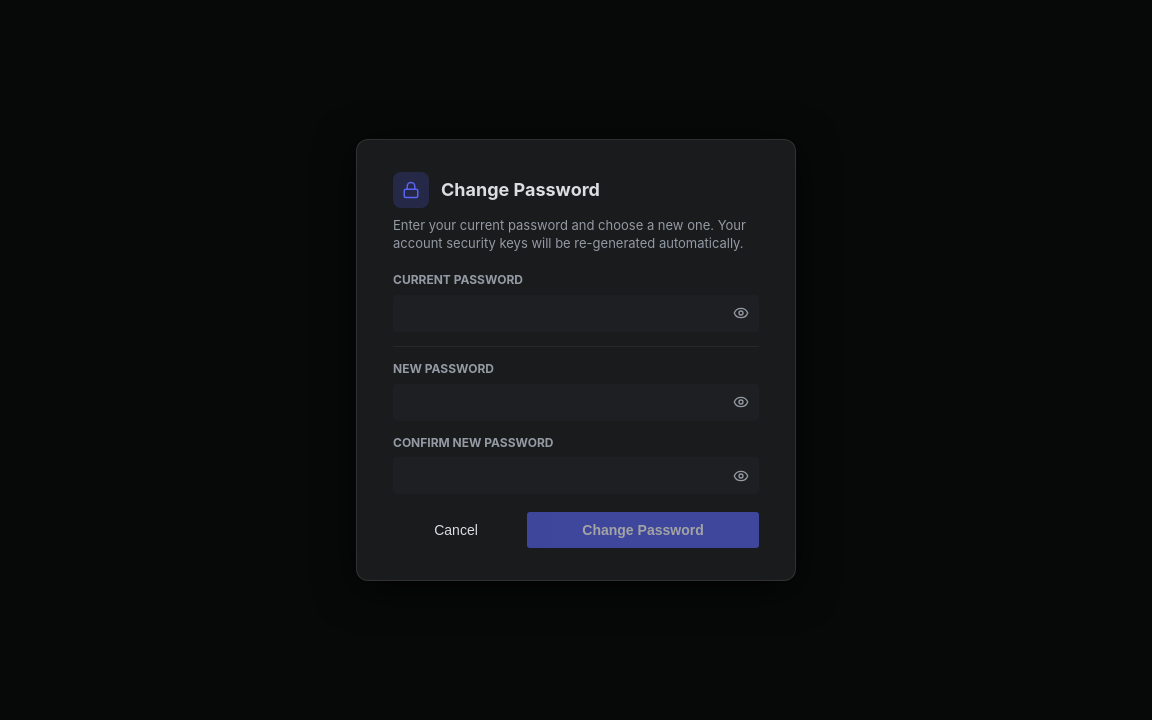
ChangePasswordModal › shows error when new and confirm passwords do not match
Type "correctcurrent" into the password field with test id "change-password-current".
click(576, 313); type("correctcurrent")  # box [393,295,759,332]
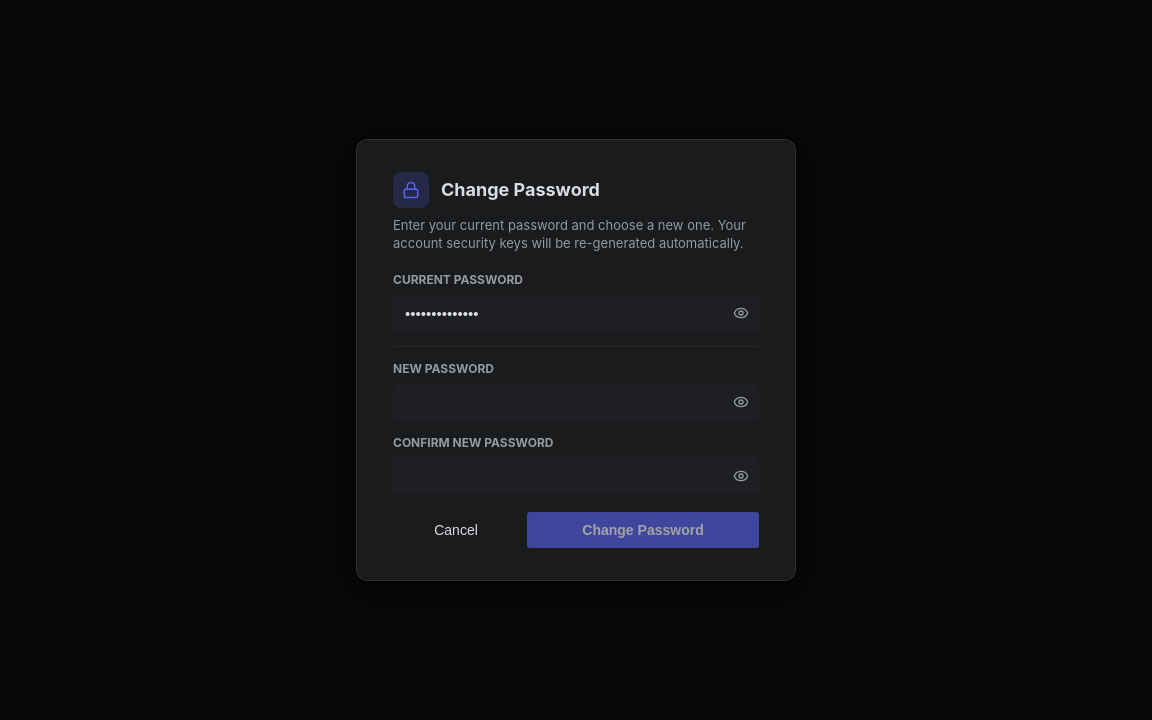
Type "newpassword123" into the password field with test id "change-password-new".
click(576, 402); type("newpassword123")  # box [393,384,759,421]
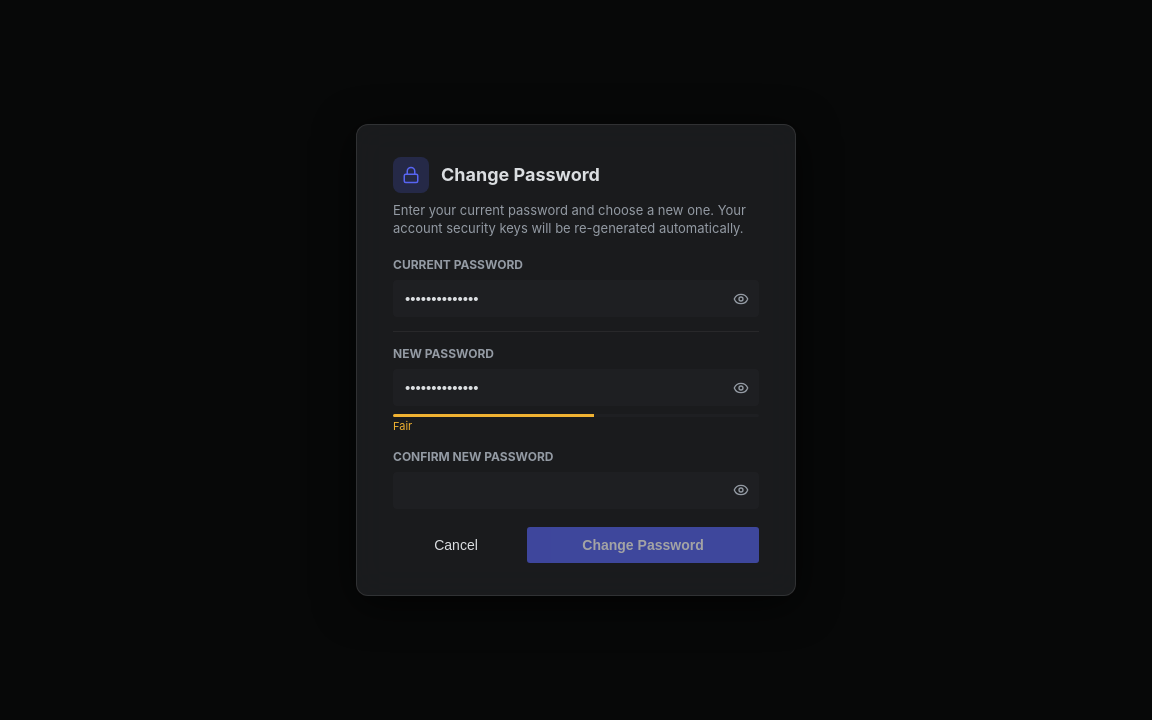
Type "differentpassword" into the password field with test id "change-password-confirm".
click(576, 490); type("differentpassword")  # box [393,472,759,509]
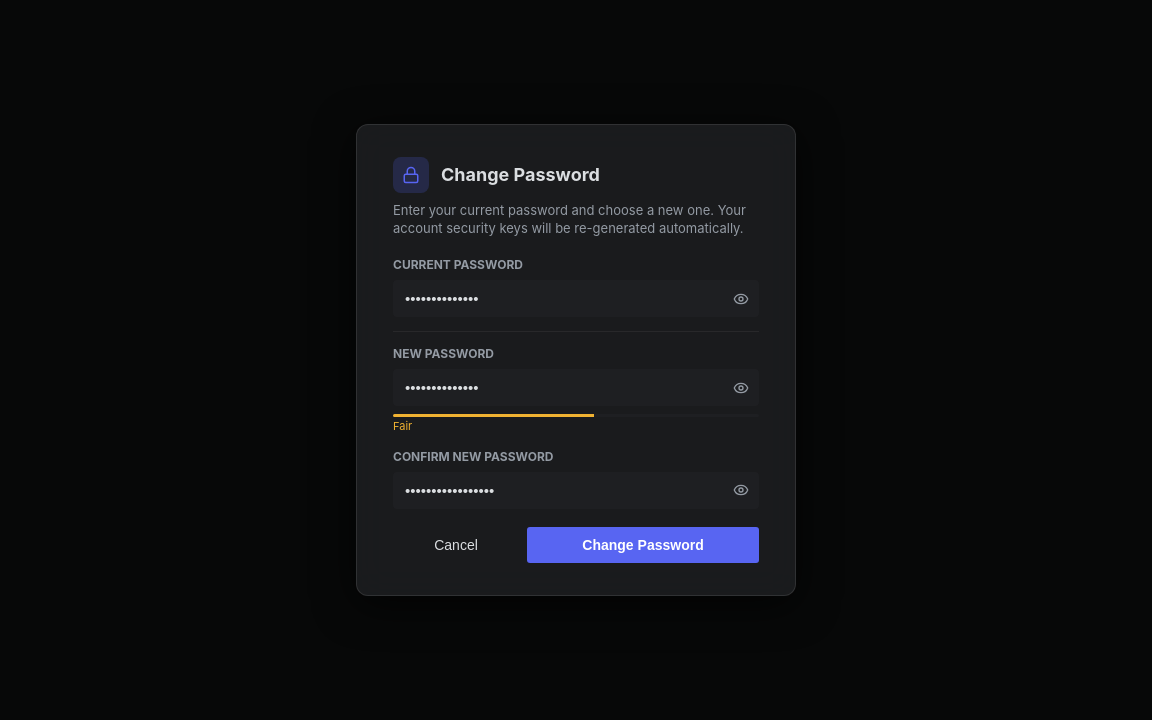
Click the button "Change Password".
click(643, 545)  # box [527,527,759,563]
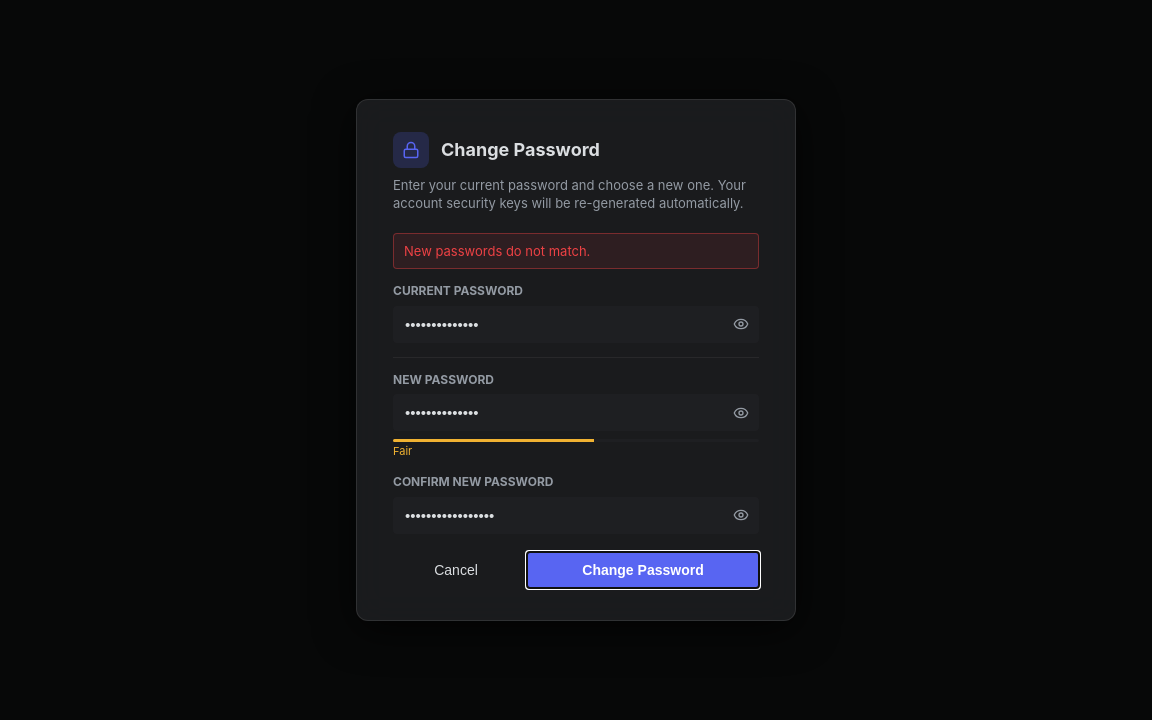
Expected: the text "New passwords do not match." is shown, [393,233,759,269]
